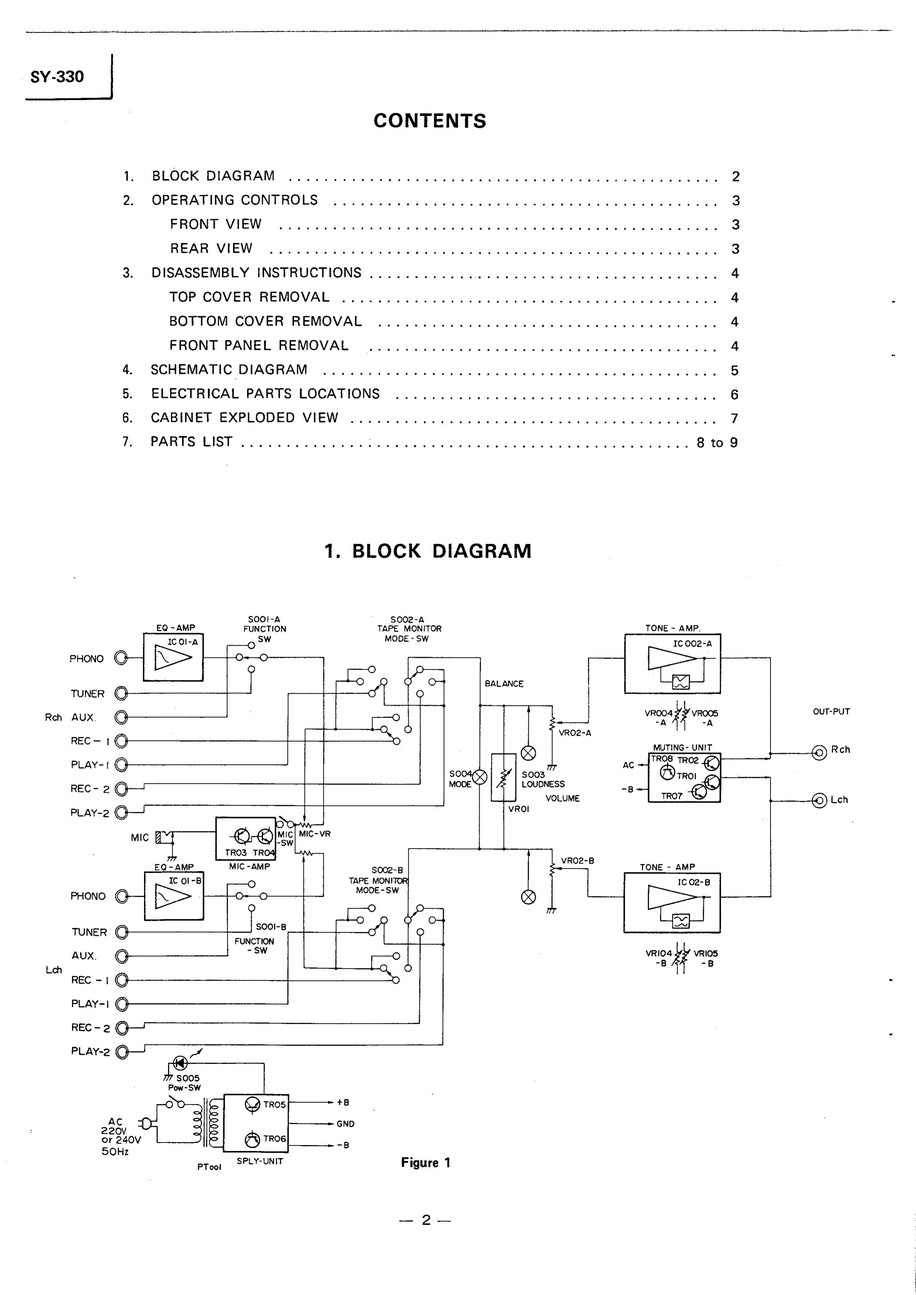IC002-A: (673, 639, 713, 650)
IC01-A: (167, 637, 199, 648)
IC01-B: (169, 876, 202, 885)
IC02-B: (675, 878, 712, 889)
S001-A: (245, 613, 286, 625)
S001-B: (255, 920, 287, 932)
S002-A: (387, 614, 425, 624)
S002-B: (371, 864, 403, 877)
S003: (519, 768, 547, 780)
S004: (448, 767, 473, 778)
S005: (175, 1073, 202, 1084)
TR01: (676, 771, 698, 780)
TR02: (678, 755, 699, 765)
TR03: (226, 847, 247, 858)
TR04: (252, 849, 275, 858)
TR05: (263, 1099, 287, 1109)
TR06: (262, 1133, 286, 1144)
TR07: (660, 790, 684, 802)
TR08: (649, 753, 674, 763)
VR004-A: (643, 708, 674, 726)
VR005-A: (691, 709, 718, 727)
VR01: (507, 803, 532, 815)
VR014-B: (643, 948, 673, 968)
VR015-B: (693, 950, 721, 968)
VR02-A: (557, 726, 593, 740)
VR02-B: (559, 856, 596, 867)
